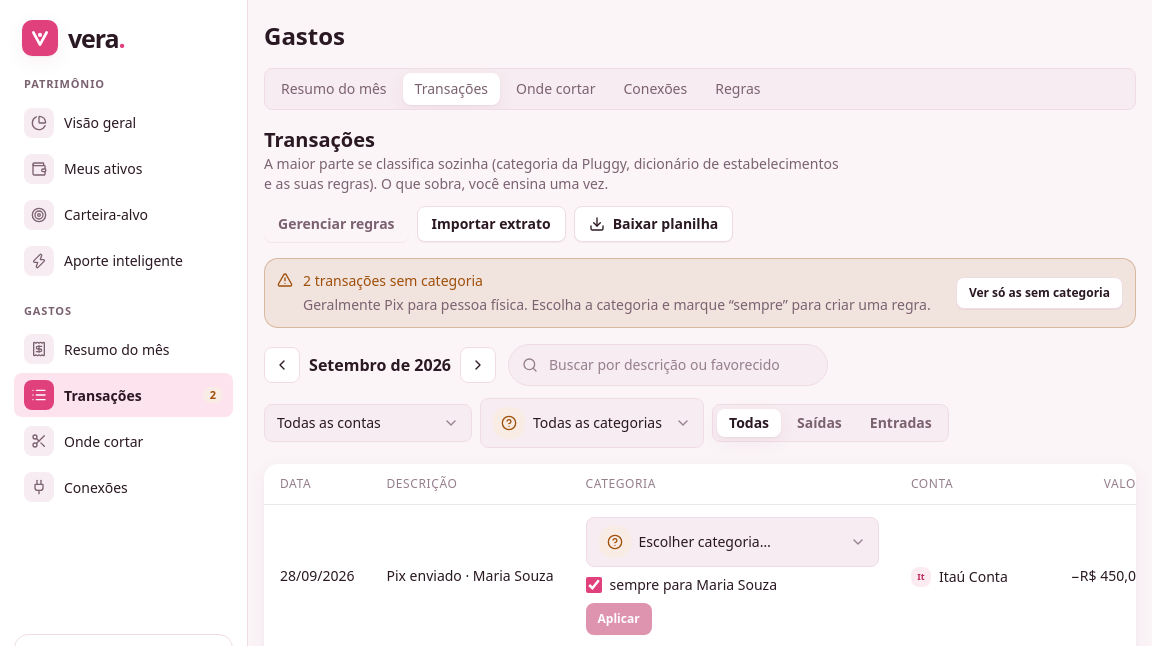
/spending/transactions: filtros › o botão do aviso aplica "só sem categoria"
Click the button "Ver só as sem categoria" at (1039, 293), box [956,277,1123,309]
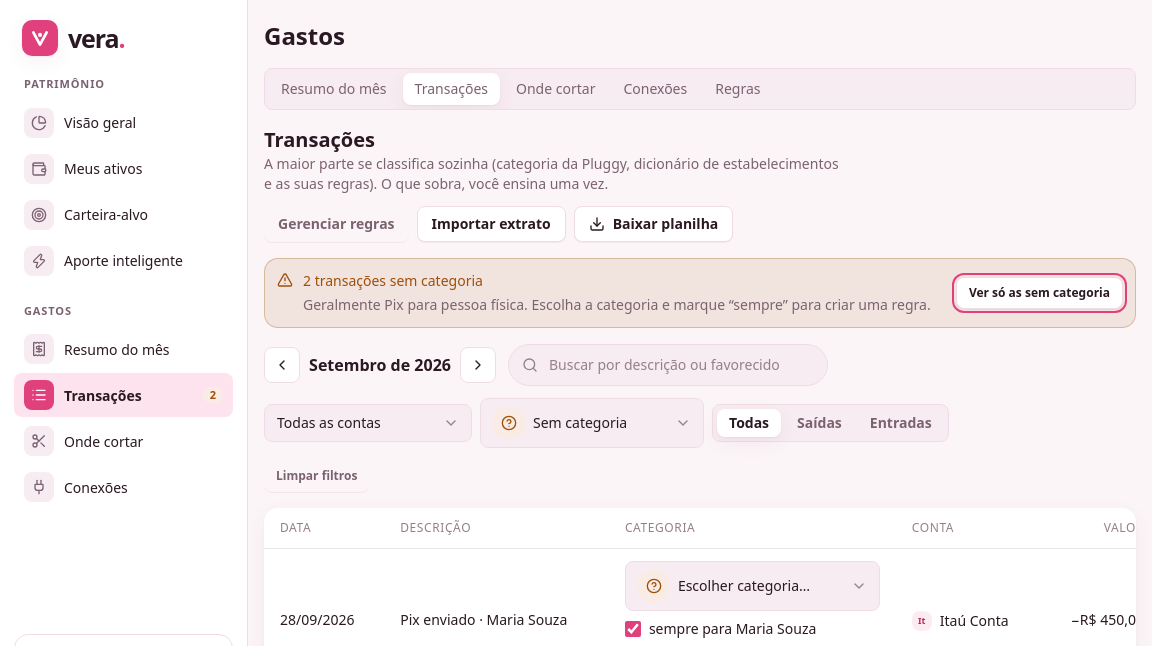
Expected: the text "Pix enviado · Maria Souza" is shown 2 times
